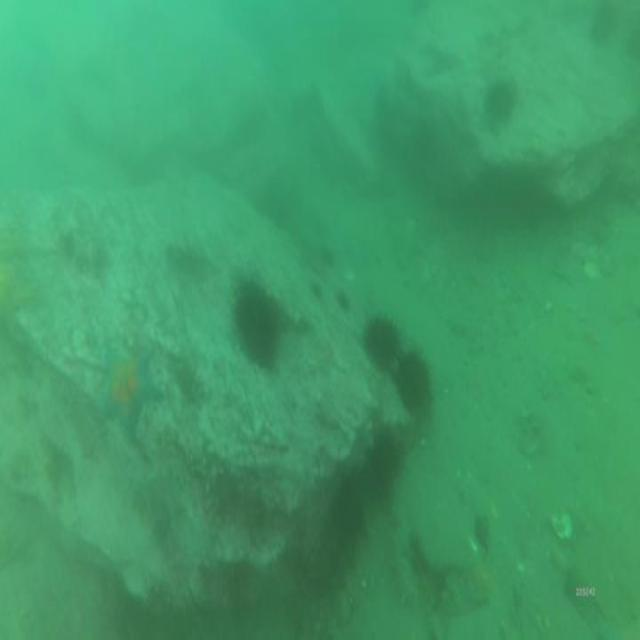echinus: (236, 291, 281, 368), (327, 472, 366, 532), (398, 352, 430, 410), (362, 315, 397, 368), (370, 433, 396, 499), (487, 84, 513, 118)
holothurian: (390, 521, 416, 610)
starfish: (98, 337, 157, 438)
